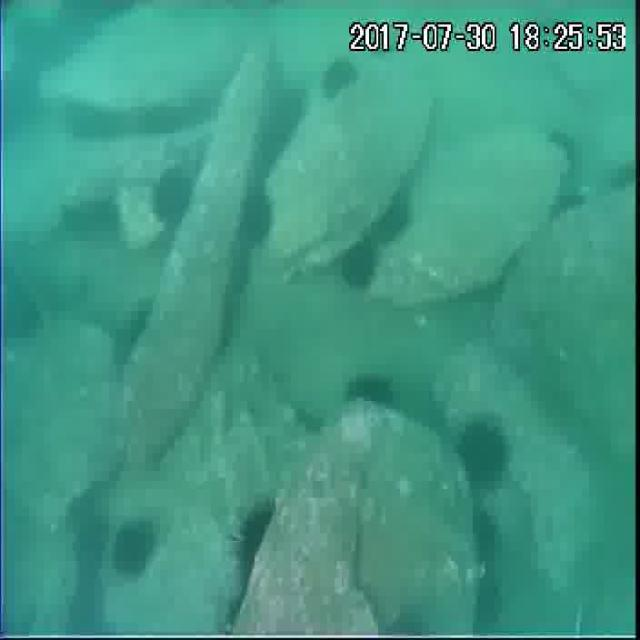echinus: (452, 416, 508, 490), (0, 266, 46, 341), (231, 498, 274, 576), (62, 191, 125, 242), (466, 564, 511, 634), (150, 162, 195, 230), (110, 520, 153, 581), (235, 191, 277, 249), (371, 193, 413, 249), (340, 236, 379, 296), (318, 54, 363, 104), (346, 369, 396, 412), (264, 85, 304, 134), (253, 124, 291, 174), (474, 504, 502, 569)
